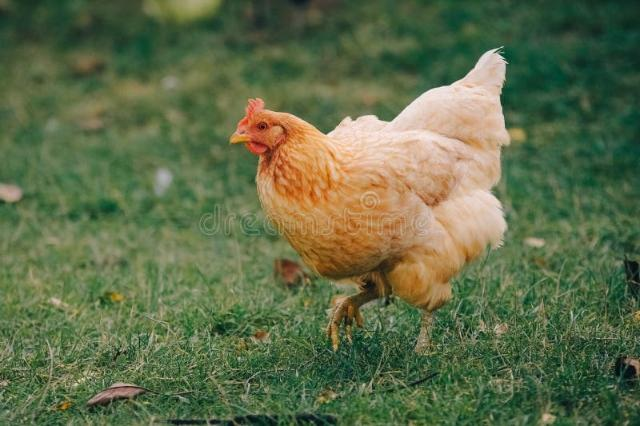Chicken: (228, 46, 508, 350)
